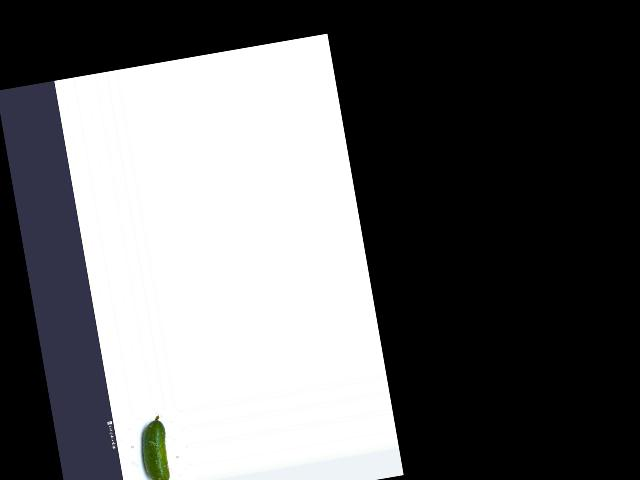cucumber: (136, 415, 174, 480)
